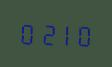one: (54, 19, 71, 47)
two: (36, 19, 53, 46)
zero: (18, 18, 35, 46), (72, 20, 89, 48)
